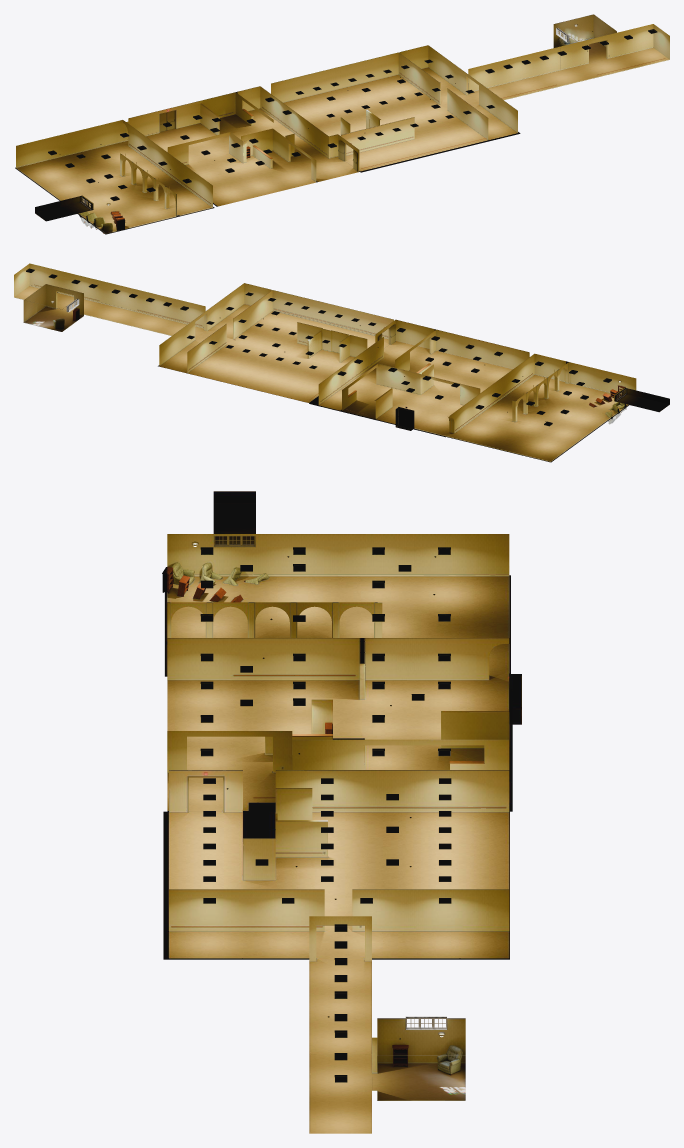
The model's file is backrooms.glb.
3 views of the same model, one above another, from view 1: azimuth 30°, elevation 25°; view 2: azimuth 150°, elevation 25°; view 3: azimuth 270°, elevation 25° (orthographic). The views are drawn at different scales.
Visible parts, largest first — view 1: Object_19, Object_16, Object_21, Object_20, Object_25, Object_23, Object_14, Object_18, Object_4, Object_24, Object_27, Object_28 (+2 smaller); view 2: Object_19, Object_21, Object_16, Object_20, Object_25, Object_14, Object_23, Object_18, Object_4, Object_24, Object_27, Object_22 (+2 smaller); view 3: Object_19, Object_16, Object_20, Object_25, Object_21, Object_23, Object_18, Object_4, Object_14, Object_28, Object_22, Object_10 (+2 smaller).
Boxes of the visible parts, left/top/right/bottom form: Object_19: left=283, top=67, right=520, bottom=172; Object_16: left=271, top=45, right=517, bottom=155; Object_21: left=15, top=141, right=214, bottom=234; Object_20: left=126, top=108, right=358, bottom=206; Object_25: left=125, top=86, right=359, bottom=181; Object_23: left=16, top=120, right=212, bottom=221; Object_14: left=468, top=14, right=669, bottom=94; Object_18: left=468, top=38, right=668, bottom=102; Object_4: left=48, top=30, right=656, bottom=200; Object_24: left=16, top=14, right=669, bottom=233; Object_27: left=129, top=58, right=665, bottom=203; Object_28: left=79, top=37, right=570, bottom=233; Object_19: left=158, top=304, right=389, bottom=403; Object_21: left=446, top=374, right=629, bottom=462; Object_16: left=159, top=283, right=393, bottom=372; Object_20: left=309, top=341, right=512, bottom=437; Object_25: left=318, top=319, right=529, bottom=432; Object_14: left=14, top=263, right=205, bottom=330; Object_23: left=449, top=353, right=669, bottom=433; Object_18: left=15, top=286, right=205, bottom=338; Object_4: left=26, top=269, right=611, bottom=426; Object_24: left=14, top=285, right=628, bottom=461; Object_27: left=34, top=284, right=532, bottom=430; Object_22: left=49, top=274, right=584, bottom=414; Object_19: left=163, top=811, right=509, bottom=959; Object_16: left=169, top=770, right=509, bottom=931; Object_20: left=167, top=677, right=512, bottom=811; Object_25: left=167, top=638, right=521, bottom=772; Object_21: left=164, top=575, right=510, bottom=677; Object_23: left=167, top=491, right=509, bottom=637; Object_18: left=309, top=959, right=465, bottom=1133; Object_4: left=200, top=549, right=451, bottom=1082; Object_14: left=309, top=916, right=465, bottom=1072; Object_28: left=171, top=562, right=463, bottom=1075; Object_22: left=240, top=565, right=424, bottom=1060; Object_10: left=162, top=567, right=408, bottom=1067.
Bounding box in the file's own units: 81.53 × 4.14 × 20.61.
28 materials, 27 textured.
